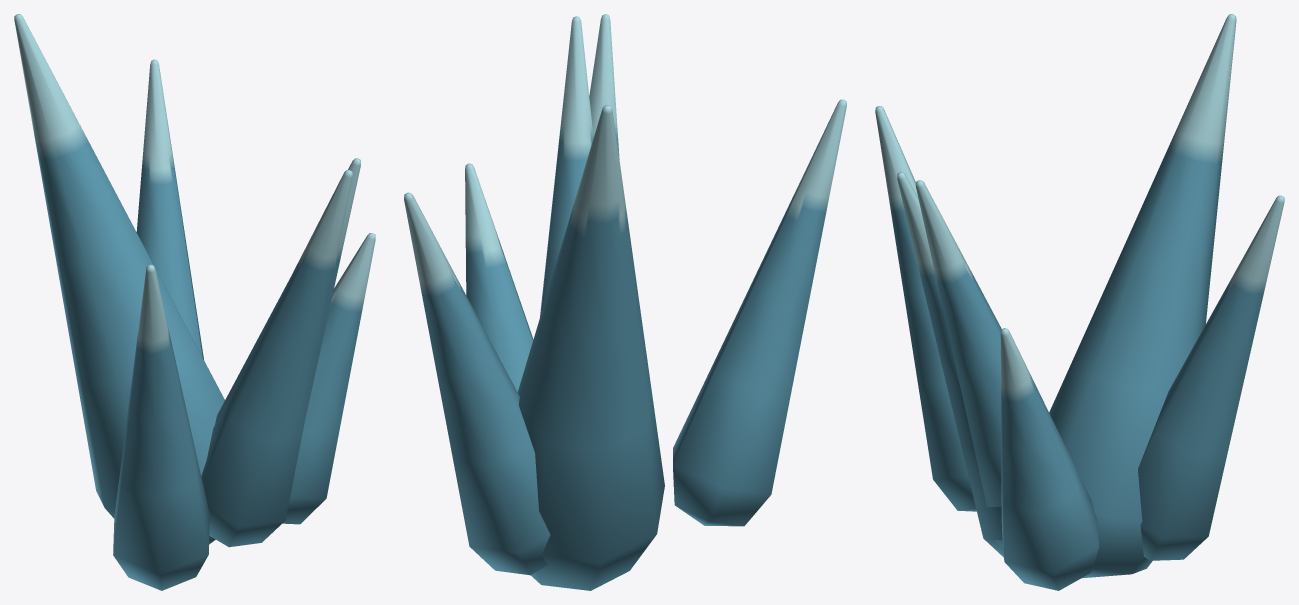
File: prop_crystal3_d08e.glb
3 renders of one model, left to right at view 1: azimuth 30°, elevation 25°; view 2: azimuth 150°, elevation 25°; view 3: azimuth 270°, elevation 25°, orthographic. The views are drawn at different scales.
Parts seen in each view (by area): view 1: prop_crystal3_d08e; view 2: prop_crystal3_d08e; view 3: prop_crystal3_d08e.
Boxes of the visible parts, left/top/right/bottom form: prop_crystal3_d08e: left=14, top=14, right=375, bottom=590; prop_crystal3_d08e: left=404, top=14, right=846, bottom=590; prop_crystal3_d08e: left=875, top=14, right=1284, bottom=590.
Bounding box in the file's own units: 0.5918 × 0.9845 × 0.7149.
1 material, 1 textured.
